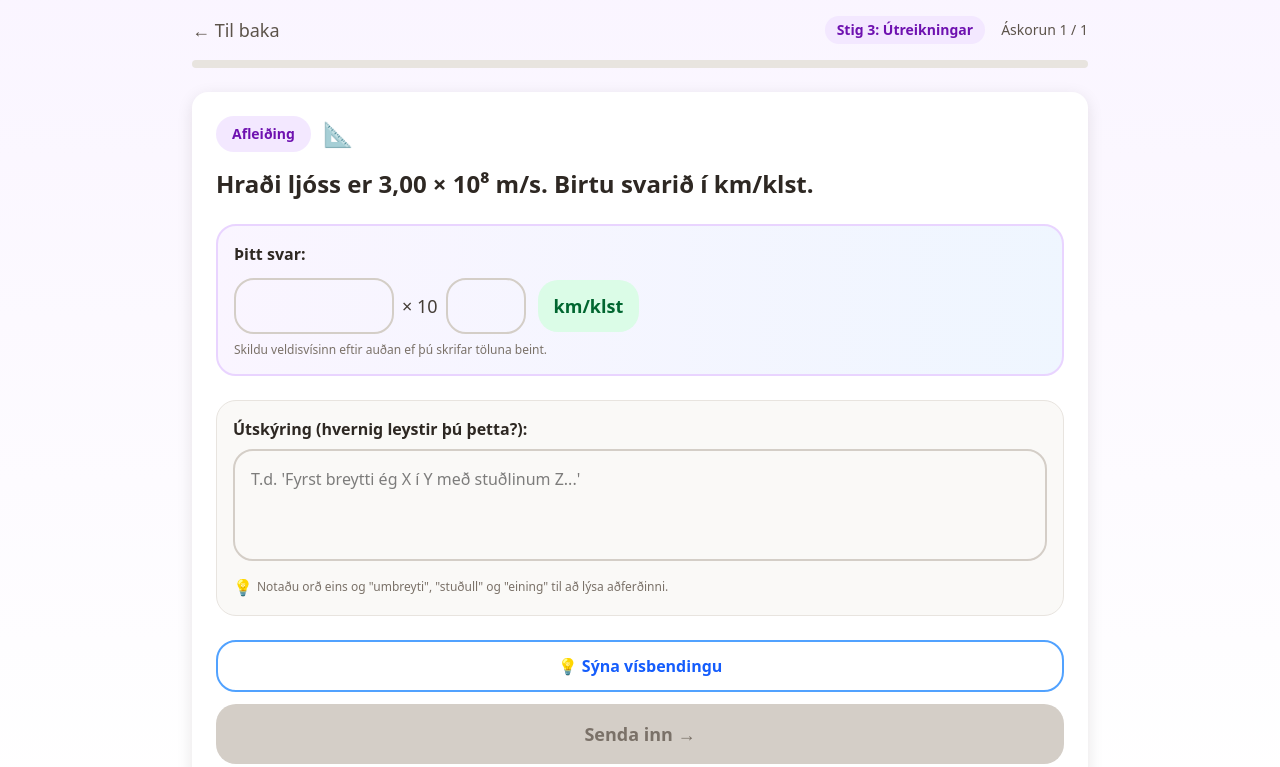
the scientific-notation item takes digits and a power of ten › grades 1,08 × 10^9 correct
Type "1,08" into the field named "Þitt svar" at (314,306), box [234,278,394,334]
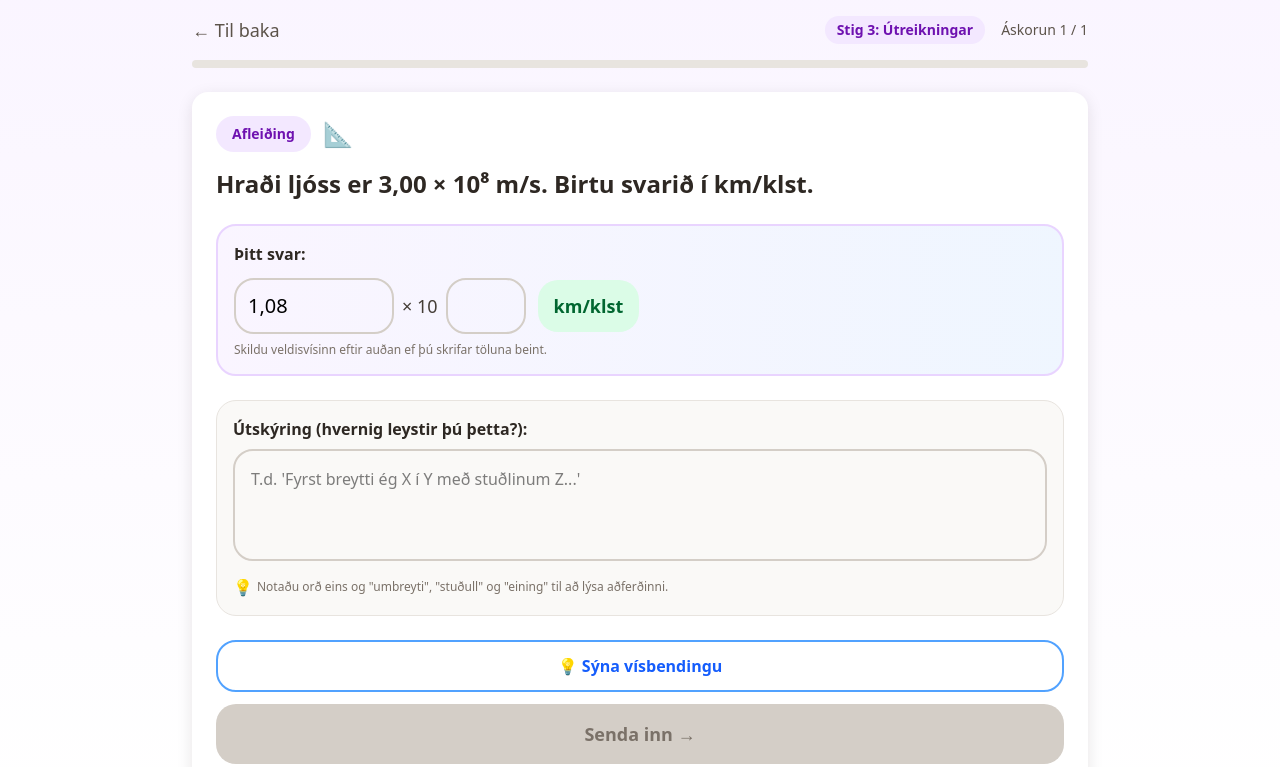
Type "9" into the field named "Veldisvísir" at (486,306), box [446,278,526,334]
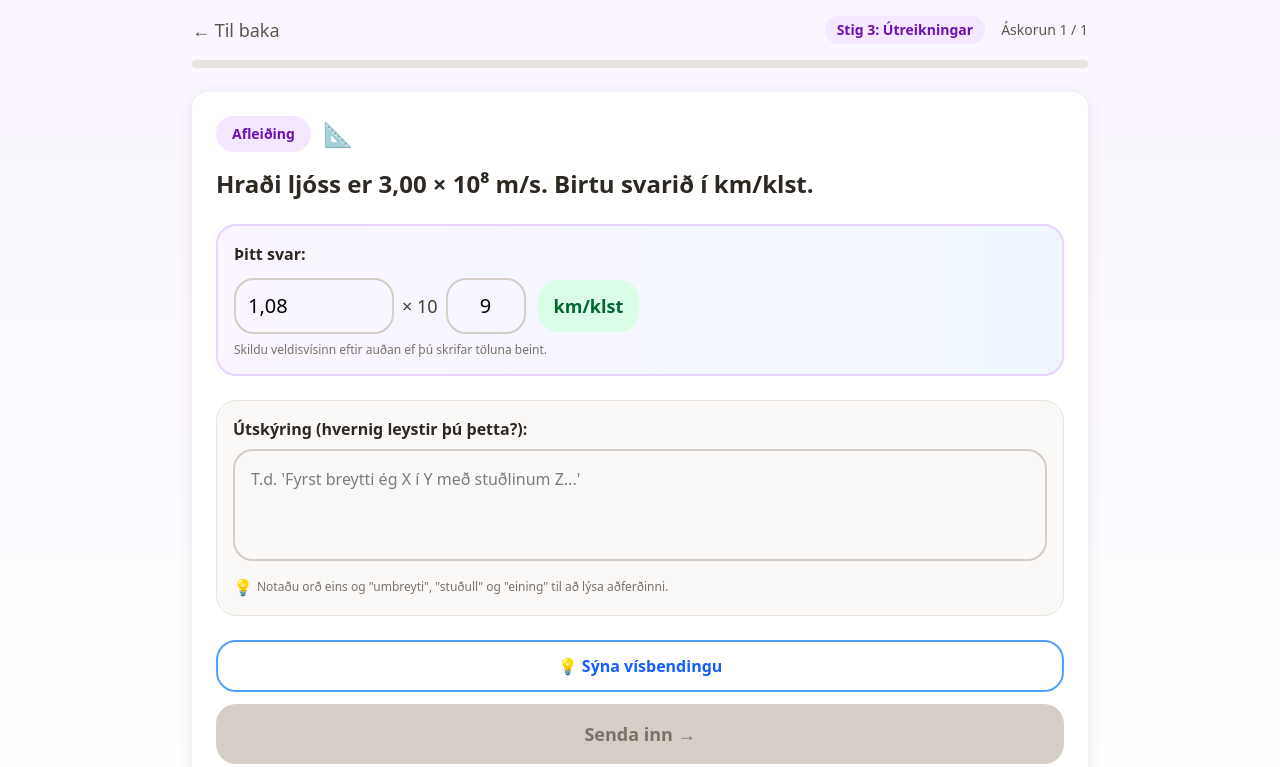
Type "Ég umbreytti einingunum skref fyrir skref með stuðlum." into the text box labelled "Útskýring (hvernig leystir þú þetta?):" at (640,505), box [233,449,1047,561]
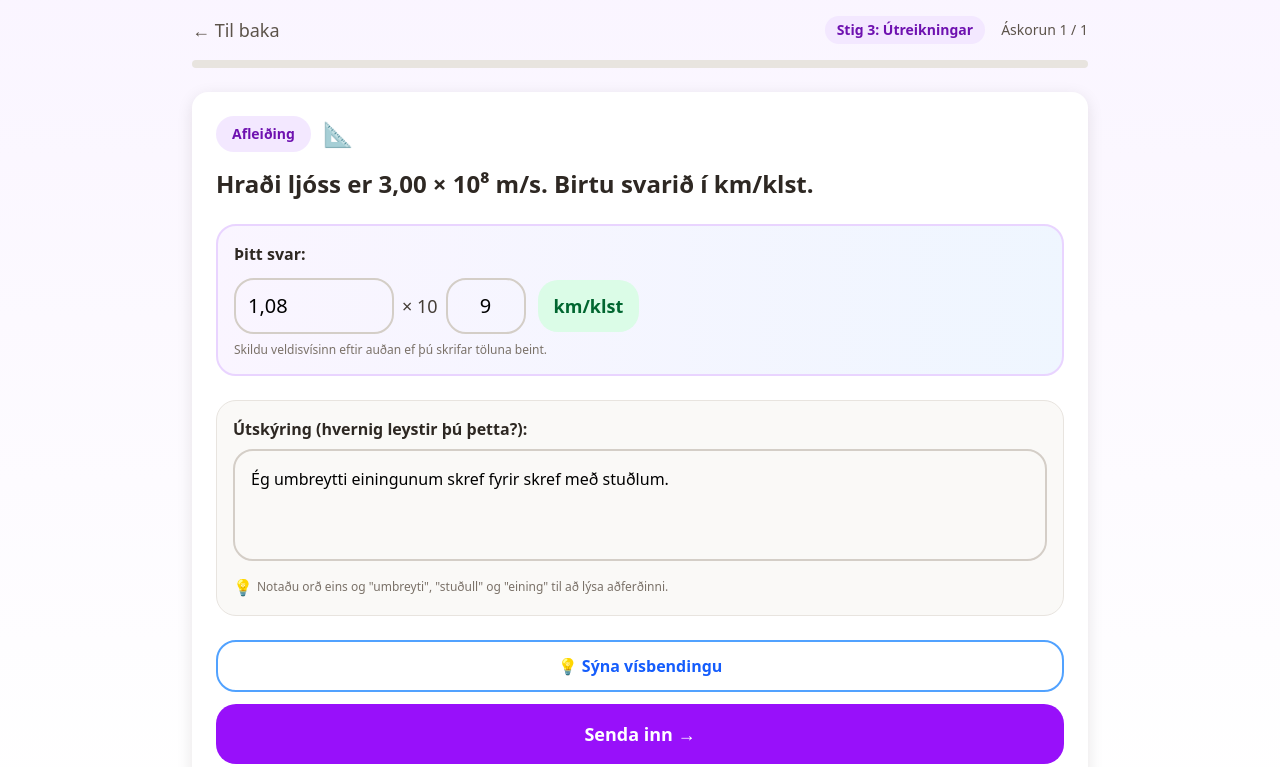
Click the button "Senda inn →" at (640,734), box [216,704,1064,764]
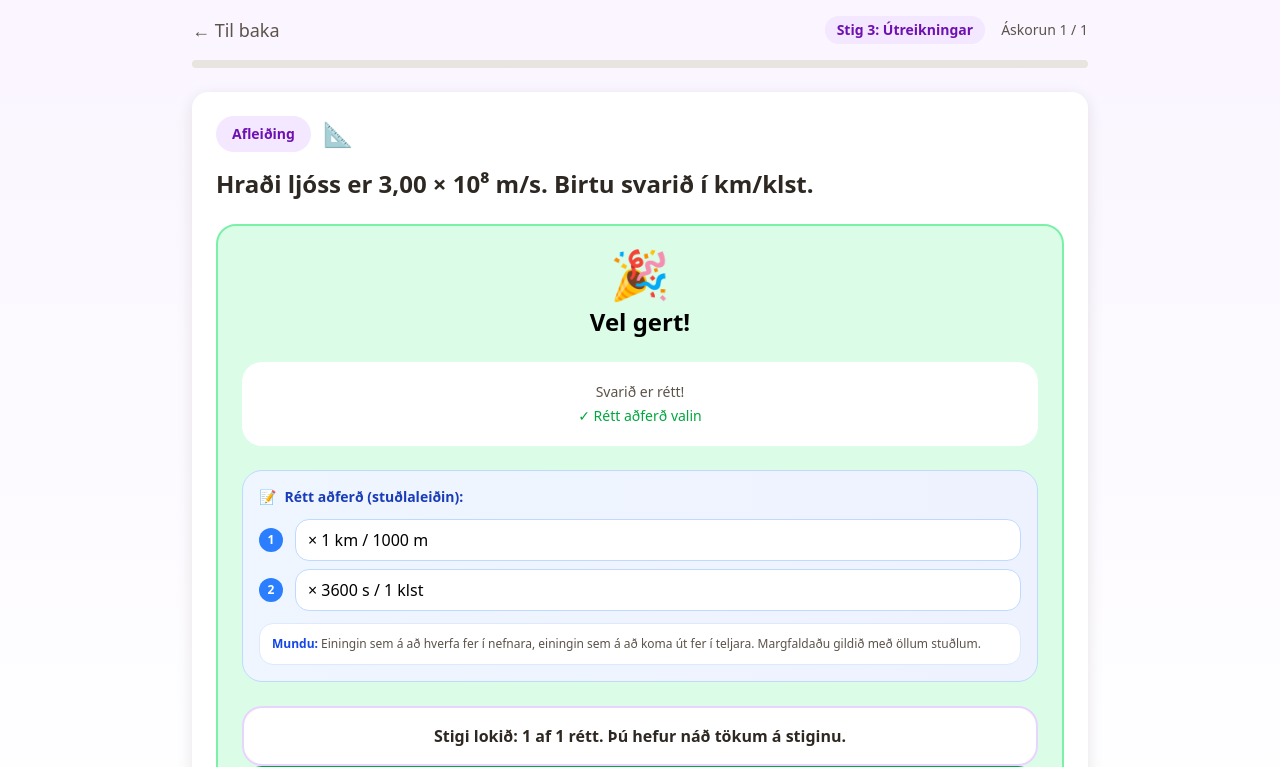
Result: the text "Svarið er rétt!" is shown at [596,382,684,401]
